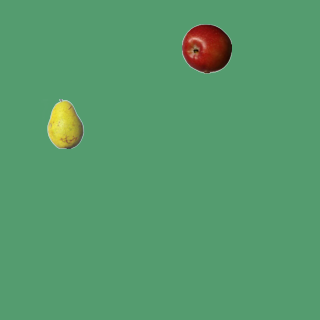Apple Braeburn: (181, 23, 231, 73)
Pear Monster: (40, 98, 90, 148)
